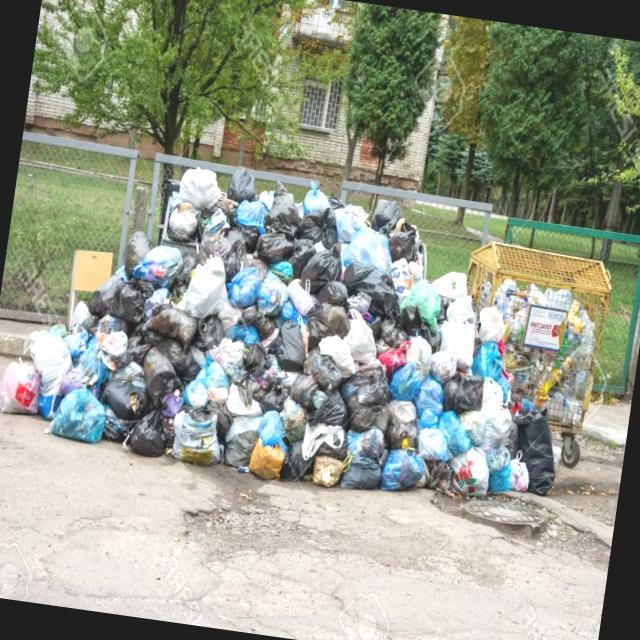garbage: (0, 138, 630, 521)
